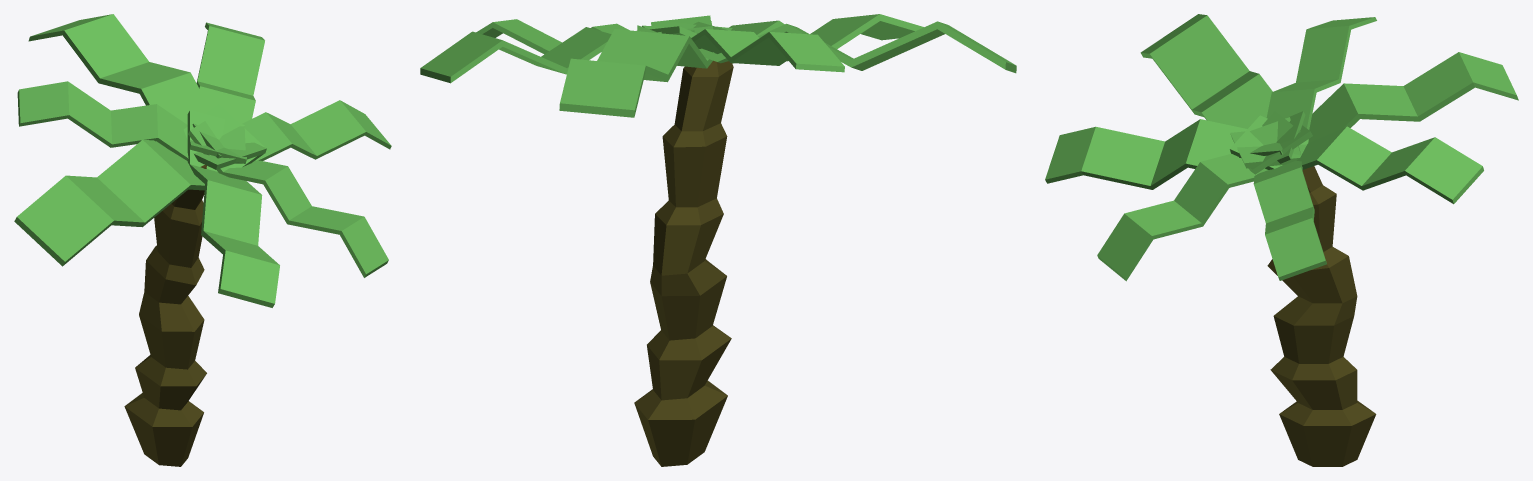
The model's file is PalmTree2.fbx.
3 renders of one model, left to right at view 1: azimuth 30°, elevation 25°; view 2: azimuth 150°, elevation 25°; view 3: azimuth 270°, elevation 25°, orthographic. The views are drawn at different scales.
Visible parts, largest first — view 1: Trunk, Leaf.007, Leaf.006, Leaf.002, Leaf.003, Leaf.004, Leaf.001, Leaf; view 2: Trunk, Leaf.002, Leaf.001, Leaf.003, Leaf.007, Leaf.006, Leaf; view 3: Trunk, Leaf.006, Leaf.007, Leaf.002, Leaf.001, Leaf.004, Leaf, Leaf.003.
Part boxes in pixels (<box>): Trunk: <box>124,165,206,466</box>; Leaf.007: <box>14,104,264,266</box>; Leaf.006: <box>187,110,279,307</box>; Leaf.002: <box>28,14,266,169</box>; Leaf.003: <box>17,81,245,163</box>; Leaf.004: <box>188,121,388,277</box>; Leaf.001: <box>189,22,264,163</box>; Leaf: <box>192,100,391,160</box>; Trunk: <box>634,60,733,466</box>; Leaf.002: <box>559,21,732,117</box>; Leaf.001: <box>420,21,727,83</box>; Leaf.003: <box>642,25,844,72</box>; Leaf.007: <box>637,21,1016,73</box>; Leaf.006: <box>650,14,923,61</box>; Leaf: <box>476,19,694,54</box>; Trunk: <box>1267,166,1376,466</box>; Leaf.006: <box>1045,111,1305,189</box>; Leaf.007: <box>1140,14,1312,174</box>; Leaf.002: <box>1230,52,1518,168</box>; Leaf.001: <box>1230,115,1483,204</box>; Leaf.004: <box>1097,111,1300,281</box>; Leaf: <box>1243,117,1326,280</box>; Leaf.003: <box>1239,17,1376,157</box>.
Bounding box in the file's own units: 945 × 844 × 927.
